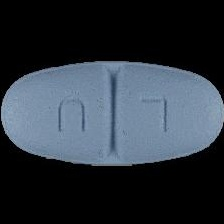49349-789: (0, 0, 224, 224)
